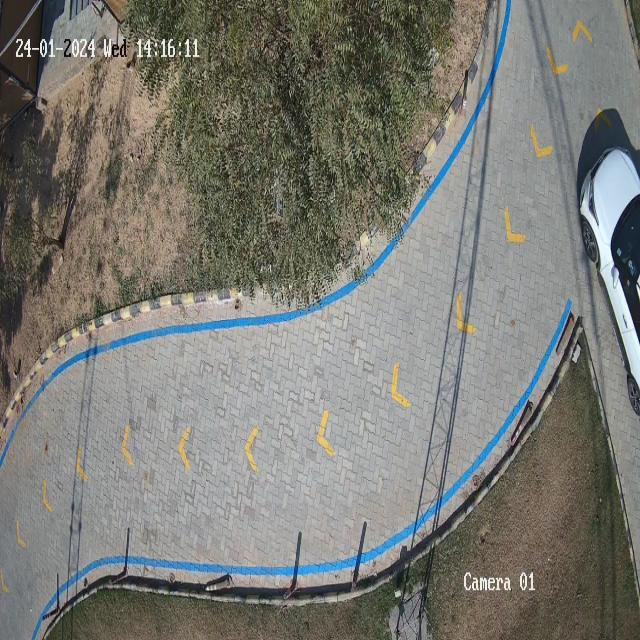car: (580, 145, 640, 417)
